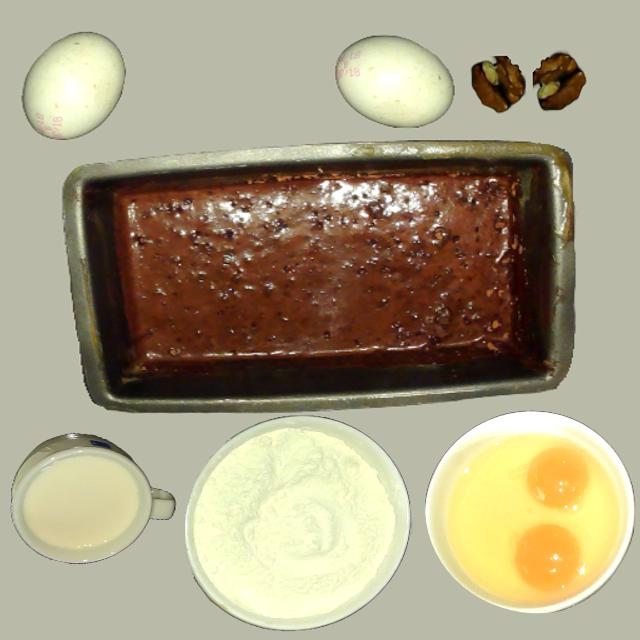Egg: (514, 524, 582, 588), (526, 448, 589, 508)
Flour: (185, 415, 406, 629)
Milk: (27, 458, 138, 550)
